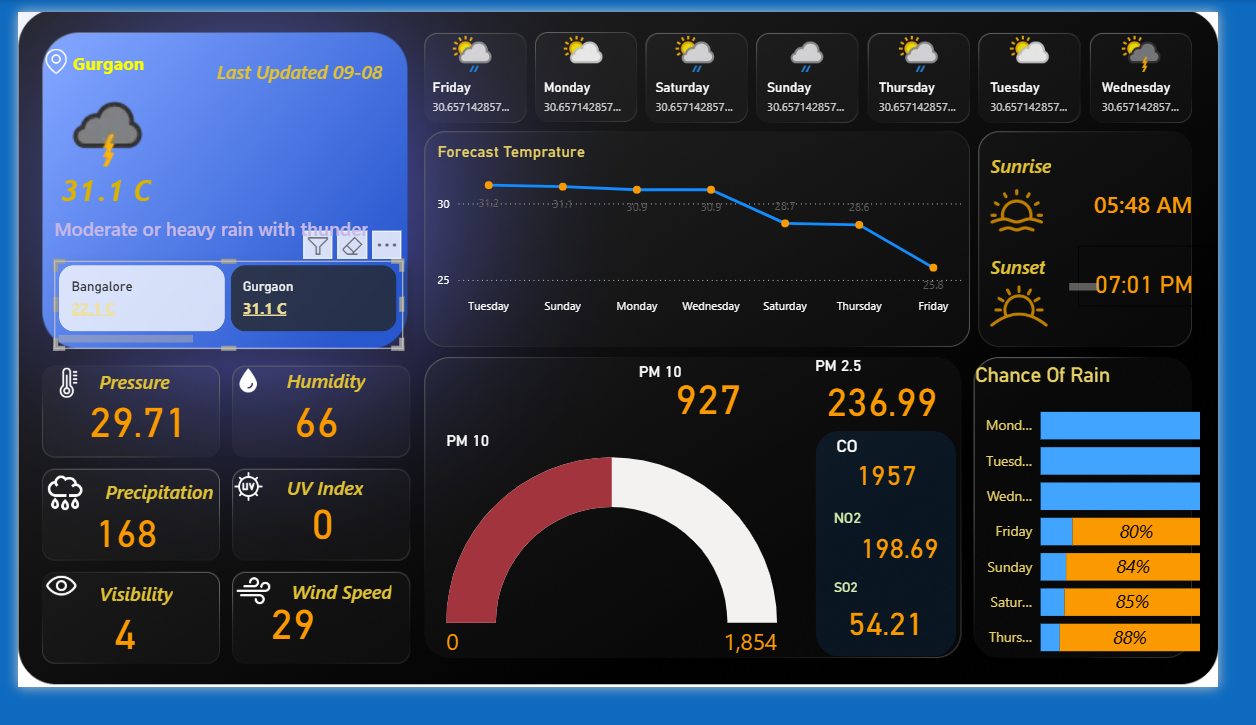

The dashboard page shown, as its layout file describes it:
{"tool":"powerbi","page":{"name":"Page 1","canvas":[1280,720],"ordinal":0},"visuals":[{"type":"shape","box":[851.3,446.2,150,241],"z":0},{"type":"advancedSlicerVisual","fields":{"Values":["Locations.location.name"]},"box":[38.5,265.4,371.8,94.9],"z":1000},{"type":"shape","box":[38.6,162.9,111,55.5],"z":2000},{"type":"shape","box":[38.5,211.5,403.8,35.9],"z":3000},{"type":"shape","box":[59,37.2,130.8,33.3],"z":4000},{"type":"shape","box":[203.8,37.2,206.4,51.3],"z":5000},{"type":"image","box":[23.1,34.6,35.9,35.9],"z":6000},{"type":"cardVisual","fields":{"Data":["Min(Current_.current.condition.icon)"]},"box":[22.9,51.9,125.5,126.7],"z":7000},{"type":"image","box":[224.3,374.3,42.9,37.1],"z":8000},{"type":"image","box":[22.9,485.7,55.7,55.7],"z":9000},{"type":"image","box":[1012.7,267.6,108.5,91.5],"z":10000},{"type":"image","box":[22.9,374.3,62.9,41.4],"z":11000},{"type":"image","box":[1029.6,178.9,71.8,66.2],"z":12000},{"type":"image","box":[190,485.7,110,41.4],"z":13000},{"type":"image","box":[22.9,582.9,47.1,58.6],"z":14000},{"type":"image","box":[224.3,592.9,54.3,48.6],"z":15000},{"type":"shape","box":[278.6,367.1,205.7,51.4],"z":16000},{"type":"shape","box":[278.6,482.9,190,47.1],"z":17000},{"type":"shape","box":[78.6,367.1,205.7,54.3],"z":18000},{"type":"shape","box":[85.7,485.7,205.7,51.4],"z":19000},{"type":"shape","box":[78.6,592.9,205.7,51.4],"z":20000},{"type":"shape","box":[284.3,592.9,184.3,48.6],"z":21000},{"type":"cardVisual","fields":{"Data":["Sum(Current_.current.humidity)"]},"box":[277.1,384.3,97.1,98.6],"z":22000},{"type":"cardVisual","fields":{"Data":["Sum(Current_.current.pressure_in)"]},"box":[58.6,384.3,157.1,97.1],"z":23000},{"type":"cardVisual","fields":{"Data":["Sum(forecast (4).current.precip_mm)"]},"box":[65.1,506.7,135.1,90.5],"z":24000},{"type":"cardVisual","fields":{"Data":["Sum(Current_.current.uv)"]},"box":[295.7,495.7,114.3,90],"z":25000},{"type":"cardVisual","fields":{"Data":["Sum(Current_.current.vis_km)"]},"box":[85.7,612.9,114.3,90],"z":26000},{"type":"cardVisual","fields":{"Data":["Sum(Current_.current.windchill_c)"]},"box":[251.4,602.9,158.6,84.3],"z":27000},{"type":"advancedSlicerVisual","fields":{"Values":["Forecast Day.Day_Name"]},"box":[424.3,0,840,127.1],"z":28000},{"type":"shape","box":[1029.1,138,205.1,51.9],"z":29000},{"type":"shape","box":[1029.6,245.1,100,52.1],"z":30000},{"type":"cardVisual","fields":{"Data":["Min(Forecast Day.sunset_)"]},"box":[1131,249.3,149.3,64.8],"z":31000},{"type":"cardVisual","fields":{"Rows":["Forecast Day._sunrise_"]},"box":[1121.1,190.1,159.2,108.5],"z":32000},{"type":"card","title":"PM 10","fields":{"Values":["Sum(Current_.current.air_quality.pm10)"]},"box":[657.7,373.1,157.7,73.1],"z":33000},{"type":"card","title":"PM 2.5","fields":{"Values":["Sum(Current_.current.air_quality.pm2_5)"]},"box":[844.9,366.7,152.6,73.1],"z":34000},{"type":"card","title":"CO","fields":{"Values":["Sum(Current_.current.air_quality.co)"]},"box":[867.9,452.6,116.7,61.5],"z":35000},{"type":"card","title":"NO2","fields":{"Values":["Sum(Current_.current.air_quality.no2)"]},"box":[865.4,530.8,150,61.5],"z":36000},{"type":"card","title":"SO2","fields":{"Values":["Sum(Current_.current.air_quality.so2)"]},"box":[865.4,605.1,119.2,71.8],"z":37000},{"type":"gauge","title":"PM 10","fields":{"Y":["Sum(Current_.current.air_quality.pm10)"]},"box":[452.6,446.2,362.8,256.4],"z":38000},{"type":"lineChart","title":"Forecast Temprature","fields":{"Category":["Forecast Day.Day_Name"],"Y":["Sum(Forecast Day.forecast.forecastday.day.avgtemp_c)"]},"box":[442.3,138.5,570.5,193.6],"z":39000},{"type":"hundredPercentStackedBarChart","title":"Chance Of Rain","fields":{"Y":["Current_.Left_value","Sum(Forecast Day.forecast.forecastday.day.daily_chance_of_rain)"],"Category":["Forecast Day.Day_Name"]},"box":[1015.4,374.4,250,328.2],"z":40000}]}

Visuals, with their boxes in screenshot pixels (x1, y1, x2, y2), scaled from the page's 1280x720 canvas onto the 1256x725 screenshot:
shape: [left=835, top=449, right=983, bottom=692]
advancedSlicerVisual - Locations.location.name: [left=38, top=267, right=403, bottom=363]
shape: [left=38, top=164, right=147, bottom=220]
shape: [left=38, top=213, right=434, bottom=249]
shape: [left=58, top=37, right=186, bottom=71]
shape: [left=200, top=37, right=403, bottom=89]
image: [left=23, top=35, right=58, bottom=71]
cardVisual - Min(Current_.current.condition.icon): [left=22, top=52, right=146, bottom=180]
image: [left=220, top=377, right=262, bottom=414]
image: [left=22, top=489, right=77, bottom=545]
image: [left=994, top=269, right=1100, bottom=362]
image: [left=22, top=377, right=84, bottom=419]
image: [left=1010, top=180, right=1081, bottom=247]
image: [left=186, top=489, right=294, bottom=531]
image: [left=22, top=587, right=69, bottom=646]
image: [left=220, top=597, right=273, bottom=646]
shape: [left=273, top=370, right=475, bottom=421]
shape: [left=273, top=486, right=460, bottom=534]
shape: [left=77, top=370, right=279, bottom=424]
shape: [left=84, top=489, right=286, bottom=541]
shape: [left=77, top=597, right=279, bottom=649]
shape: [left=279, top=597, right=460, bottom=646]
cardVisual - Sum(Current_.current.humidity): [left=272, top=387, right=367, bottom=486]
cardVisual - Sum(Current_.current.pressure_in): [left=58, top=387, right=212, bottom=485]
cardVisual - Sum(forecast (4).current.precip_mm): [left=64, top=510, right=196, bottom=601]
cardVisual - Sum(Current_.current.uv): [left=290, top=499, right=402, bottom=590]
cardVisual - Sum(Current_.current.vis_km): [left=84, top=617, right=196, bottom=708]
cardVisual - Sum(Current_.current.windchill_c): [left=247, top=607, right=402, bottom=692]
advancedSlicerVisual - Forecast Day.Day_Name: [left=416, top=0, right=1241, bottom=128]
shape: [left=1010, top=139, right=1211, bottom=191]
shape: [left=1010, top=247, right=1108, bottom=299]
cardVisual - Min(Forecast Day.sunset_): [left=1110, top=251, right=1255, bottom=316]
cardVisual - Forecast Day._sunrise_: [left=1100, top=191, right=1255, bottom=301]
"PM 10" card: [left=645, top=376, right=800, bottom=449]
"PM 2.5" card: [left=829, top=369, right=979, bottom=443]
"CO" card: [left=852, top=456, right=966, bottom=518]
"NO2" card: [left=849, top=534, right=996, bottom=596]
"SO2" card: [left=849, top=609, right=966, bottom=682]
"PM 10" gauge: [left=444, top=449, right=800, bottom=707]
"Forecast Temprature" lineChart: [left=434, top=139, right=994, bottom=334]
"Chance Of Rain" hundredPercentStackedBarChart: [left=996, top=377, right=1242, bottom=707]
